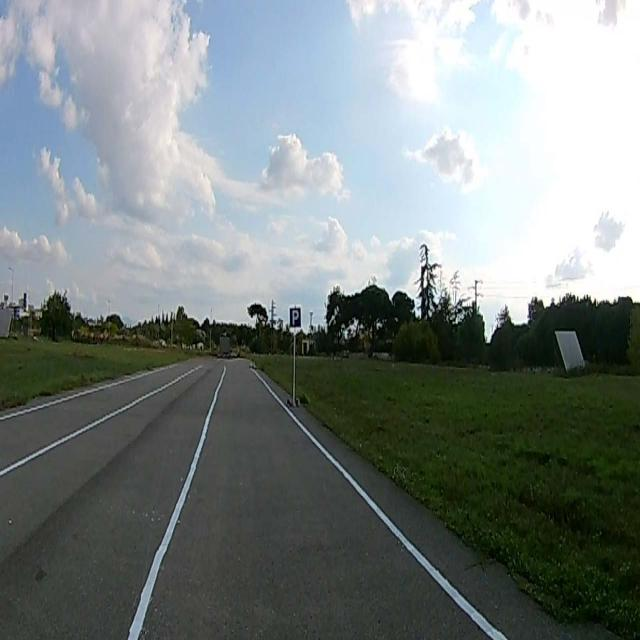park: (288, 306, 302, 326)
